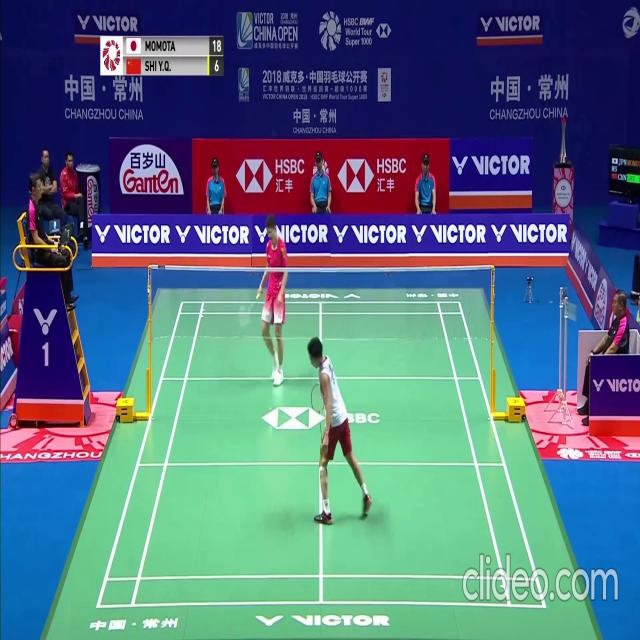Shuttlecock: (268, 408, 272, 416)
